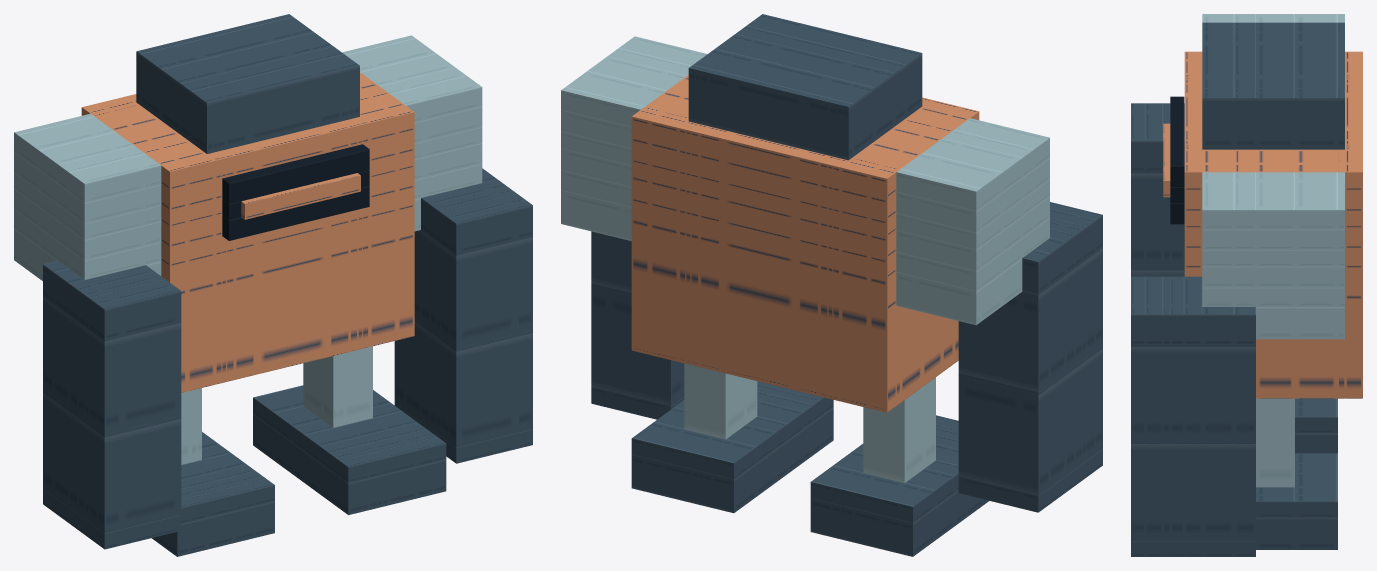
File: sc_lobby_robot_rivet.obj
The picture shows the model from 3 angles, left to right: view 1: azimuth 30°, elevation 25°; view 2: azimuth 150°, elevation 25°; view 3: azimuth 270°, elevation 25°; orthographic projection. The views are drawn at different scales.
Size of the model in its own units: 14 by 13.1 by 6.5.
Materials: 1 (1 with a texture image).
